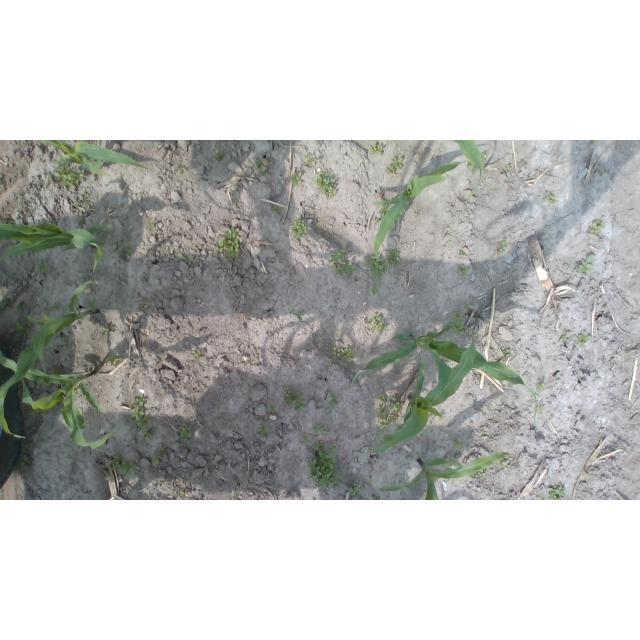Maize: (351, 316, 537, 419), (1, 281, 100, 443), (367, 326, 476, 455), (0, 351, 116, 450), (372, 162, 468, 263), (381, 452, 512, 501), (0, 222, 112, 275), (40, 140, 147, 178), (453, 140, 485, 202)
Weeds: (306, 442, 342, 491), (376, 394, 405, 430), (54, 156, 83, 189), (216, 226, 243, 260), (330, 248, 358, 276), (314, 170, 338, 200), (129, 392, 148, 428), (367, 252, 390, 281), (111, 452, 133, 476), (290, 216, 309, 240), (332, 347, 357, 363), (367, 313, 387, 332), (577, 255, 595, 274), (386, 156, 403, 174), (589, 218, 605, 234), (388, 248, 402, 266), (548, 485, 564, 500), (144, 427, 161, 441), (293, 392, 306, 410), (116, 246, 132, 260), (290, 172, 303, 189), (35, 260, 50, 274), (348, 480, 361, 496), (370, 140, 383, 156), (578, 332, 591, 347), (304, 153, 316, 168), (283, 388, 293, 405), (180, 425, 192, 439), (542, 192, 556, 204), (212, 150, 224, 164), (313, 425, 328, 436), (496, 239, 507, 254), (178, 253, 195, 262), (467, 160, 479, 172), (257, 427, 271, 437), (93, 159, 106, 169), (100, 327, 114, 336), (459, 265, 470, 276), (453, 439, 463, 451), (380, 204, 389, 217), (87, 299, 97, 310), (449, 455, 459, 465), (109, 356, 120, 365), (502, 347, 511, 358), (480, 469, 489, 480), (81, 414, 88, 428), (49, 304, 61, 312), (48, 367, 60, 375), (452, 323, 464, 331), (451, 311, 463, 319), (267, 404, 277, 413), (330, 396, 340, 405), (193, 353, 203, 362), (297, 310, 304, 322), (536, 406, 545, 415), (272, 205, 282, 213), (147, 219, 155, 229), (151, 456, 159, 465), (561, 332, 570, 340), (537, 383, 546, 391), (140, 275, 148, 284), (600, 169, 609, 177), (177, 164, 186, 172), (197, 475, 204, 485), (304, 436, 311, 446), (16, 324, 25, 331), (465, 302, 474, 309), (256, 161, 265, 168), (77, 217, 83, 227), (481, 155, 486, 167), (372, 287, 380, 294), (505, 164, 511, 172), (179, 491, 185, 498), (487, 406, 493, 413), (159, 446, 165, 452), (500, 461, 506, 467), (373, 496, 380, 501), (1, 173, 4, 184), (588, 471, 593, 477), (335, 332, 340, 337), (460, 251, 465, 256), (592, 141, 600, 144), (440, 416, 443, 421), (542, 497, 546, 500), (161, 498, 167, 500)
